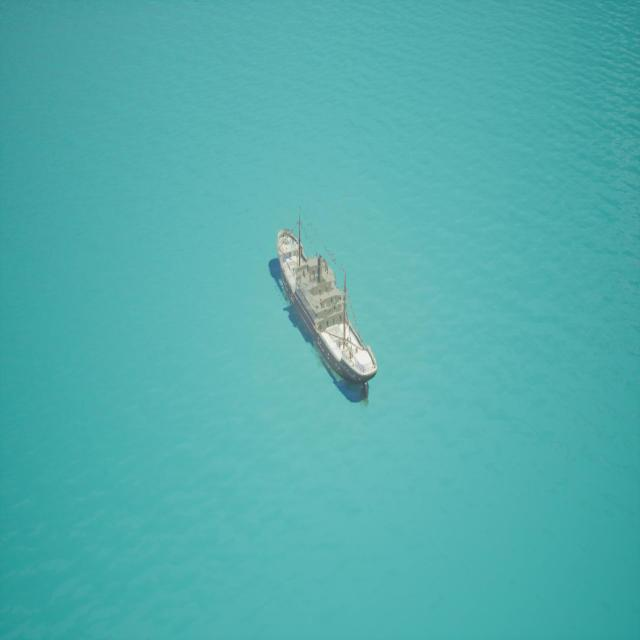fishing ship: (268, 215, 378, 404)
